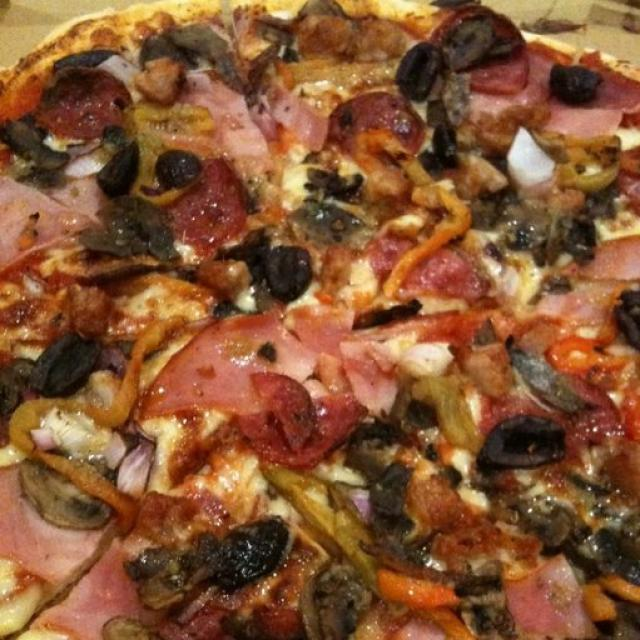Ham: (140, 314, 310, 411), (293, 304, 396, 414), (0, 178, 97, 274), (185, 73, 277, 173), (0, 459, 64, 594), (548, 235, 640, 325), (45, 548, 145, 626), (510, 563, 590, 638), (273, 87, 327, 153), (550, 108, 617, 132)
Mushrooms: (108, 545, 205, 639), (494, 342, 592, 410), (176, 24, 288, 82), (25, 458, 110, 531), (304, 565, 366, 639), (0, 120, 75, 172), (494, 209, 552, 260), (471, 570, 508, 634), (136, 61, 190, 104), (586, 520, 640, 556), (528, 504, 574, 544), (311, 172, 365, 205), (142, 23, 142, 23)
Olives: (354, 430, 419, 513), (219, 517, 281, 586), (478, 420, 558, 470), (438, 20, 492, 70), (57, 340, 102, 390), (272, 246, 306, 302), (396, 42, 430, 94), (100, 147, 136, 192), (612, 292, 640, 348), (552, 66, 594, 103), (154, 152, 196, 186)
Pepperoni: (490, 385, 613, 477), (438, 12, 538, 100), (367, 238, 478, 294), (333, 98, 422, 158), (44, 68, 125, 133), (176, 165, 241, 242)
Pizza: (0, 0, 640, 640)
